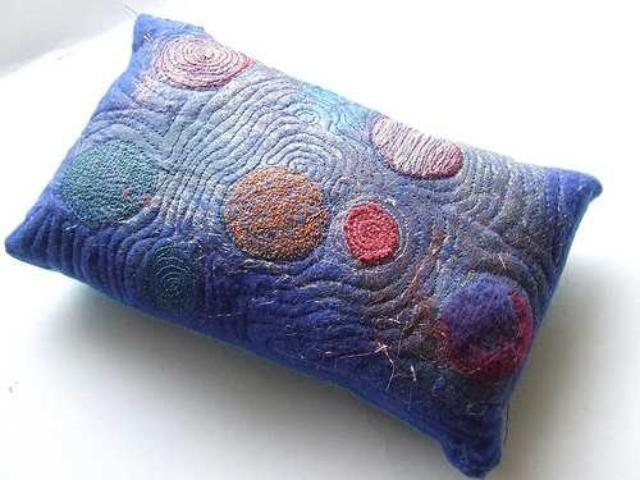pillow: (3, 10, 603, 478)
